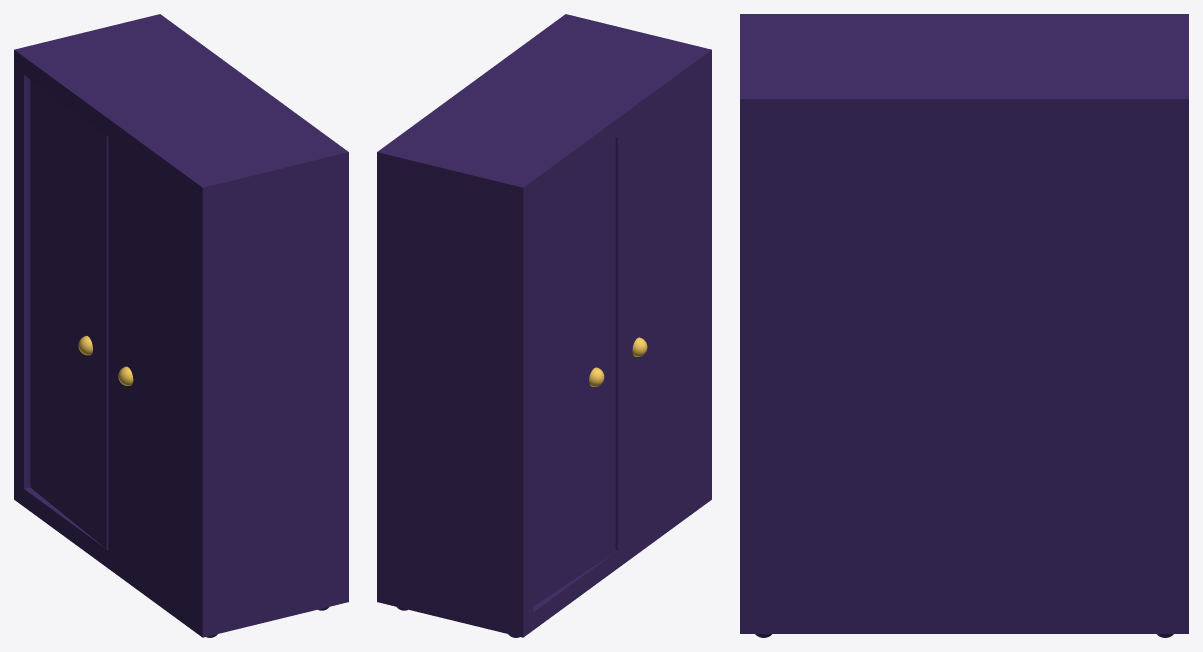
Rendered from armario.gltf.
3 renders of one model, left to right at view 1: azimuth 30°, elevation 25°; view 2: azimuth 150°, elevation 25°; view 3: azimuth 270°, elevation 25°, orthographic. The views are drawn at different scales.
Parts seen in each view (by area): view 1: estrutura direita, estrutura porta direita, estrutura porta esquerda, cima, fundo, estrutura esquerda, base, prateleira; view 2: estrutura esquerda, estrutura porta direita, estrutura porta esquerda, cima, fundo, base, estrutura direita, prateleira; view 3: fundo, cima, prateleira.
Boxes of the visible parts, x1,y1,x2,y2 form: estrutura direita: (192, 163, 340, 628); estrutura porta direita: (108, 137, 197, 611); estrutura porta esquerda: (30, 80, 108, 549); cima: (14, 17, 340, 205); fundo: (143, 14, 348, 603); estrutura esquerda: (14, 61, 30, 497); base: (14, 482, 340, 637); prateleira: (228, 368, 348, 414); estrutura esquerda: (385, 164, 533, 628); estrutura porta direita: (615, 71, 706, 550); estrutura porta esquerda: (533, 138, 615, 606); cima: (385, 17, 711, 205); fundo: (377, 14, 582, 605); base: (394, 482, 711, 637); estrutura direita: (702, 59, 711, 497); prateleira: (377, 368, 497, 414); fundo: (740, 89, 1188, 633); cima: (740, 14, 1188, 93); prateleira: (740, 355, 1188, 376).
Size of the model in its own units: 0.5625 by 1.6 by 1.19.
Materials: 2 (2 with a texture image).
